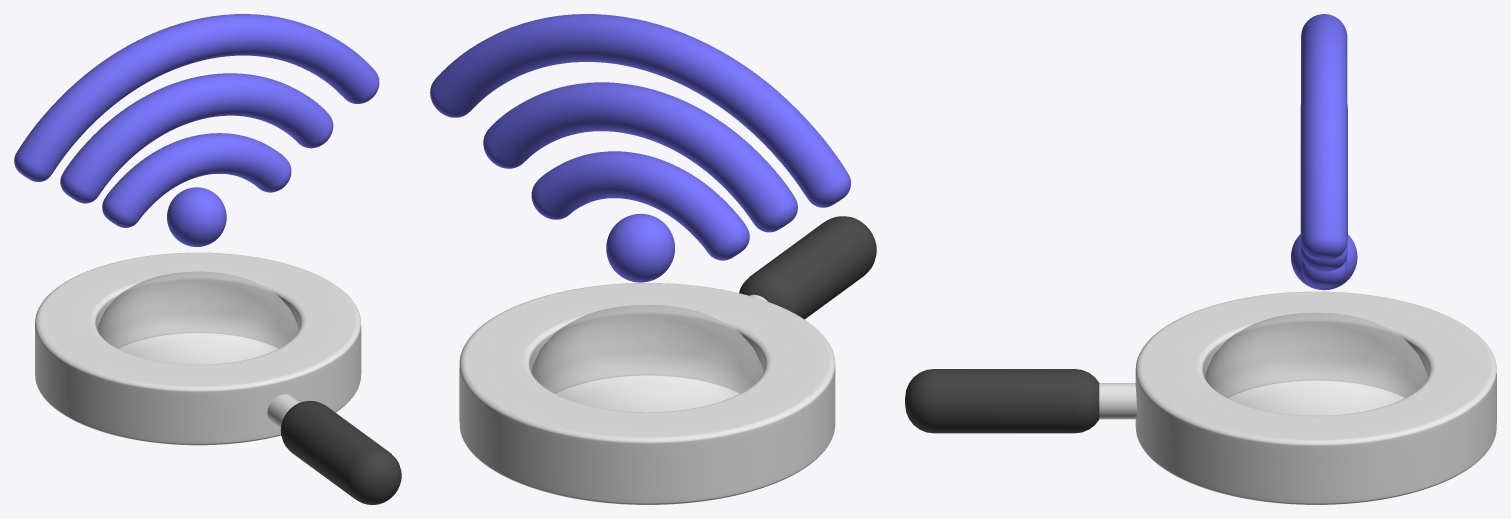
Rendered from searching-connection-animated-3d-icon-957623385797.glb.
3 views of the same model, side by side, from view 1: azimuth 30°, elevation 25°; view 2: azimuth 150°, elevation 25°; view 3: azimuth 270°, elevation 25° (orthographic). The views are drawn at different scales.
Parts seen in each view (by area): view 1: Circle.003, Circle.004, Circle.008, Circle.005, Circle.006, Cylinder.006, Sphere.008, Cylinder.004; view 2: Circle.003, Circle.004, Circle.008, Circle.005, Circle.006, Cylinder.006, Sphere.008; view 3: Circle.003, Circle.008, Cylinder.006, Circle.004, Cylinder.004, Sphere.008, Circle.005, Circle.006.
Part boxes in pixels (left/top/right/bottom): Circle.003: left=35, top=252, right=361, bottom=445; Circle.004: left=14, top=14, right=379, bottom=181; Circle.008: left=97, top=271, right=298, bottom=364; Circle.005: left=60, top=73, right=333, bottom=203; Circle.006: left=102, top=133, right=291, bottom=227; Cylinder.006: left=280, top=401, right=401, bottom=504; Sphere.008: left=167, top=187, right=226, bottom=246; Cylinder.004: left=267, top=394, right=299, bottom=428; Circle.003: left=459, top=283, right=835, bottom=504; Circle.004: left=430, top=14, right=850, bottom=207; Circle.008: left=531, top=305, right=763, bottom=412; Circle.005: left=483, top=82, right=797, bottom=232; Circle.006: left=531, top=151, right=749, bottom=260; Cylinder.006: left=739, top=216, right=876, bottom=319; Sphere.008: left=606, top=213, right=674, bottom=282; Circle.003: left=1135, top=291, right=1496, bottom=504; Circle.008: left=1204, top=312, right=1427, bottom=415; Cylinder.006: left=905, top=369, right=1099, bottom=433; Circle.004: left=1301, top=14, right=1347, bottom=260; Cylinder.004: left=1099, top=383, right=1136, bottom=419; Sphere.008: left=1290, top=234, right=1357, bottom=290; Circle.005: left=1300, top=104, right=1347, bottom=271; Circle.006: left=1301, top=258, right=1346, bottom=287.
Size of the model in its own units: 1.26 by 1.19 by 1.63.
